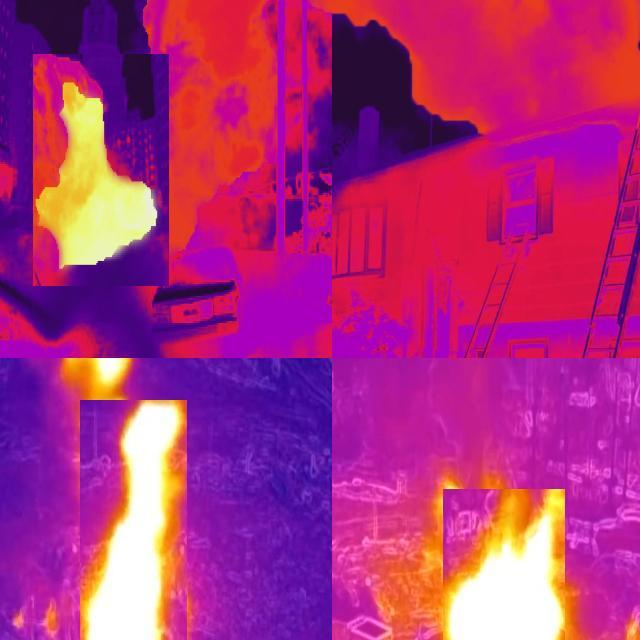fire: (34, 55, 170, 287), (81, 401, 188, 640), (444, 490, 566, 640)
